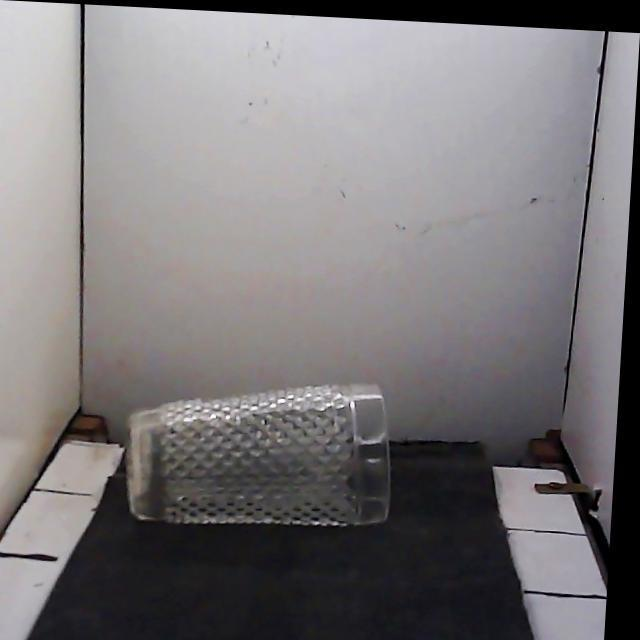vidro: (128, 385, 388, 525)
